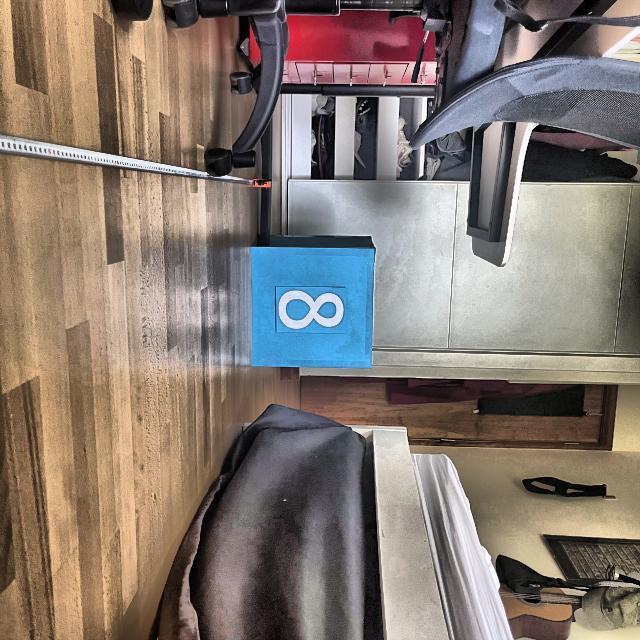blue box: (250, 234, 377, 370)
eight: (276, 288, 347, 330)
